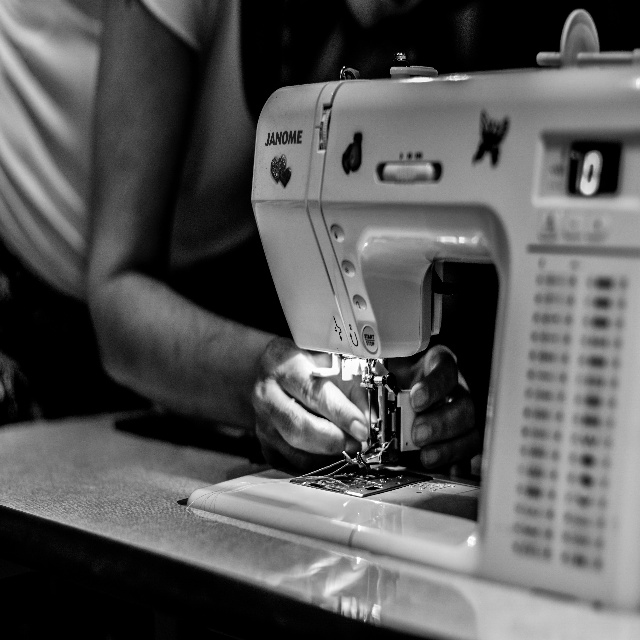Sin_guantes: (250, 332, 375, 474), (392, 343, 479, 473)
